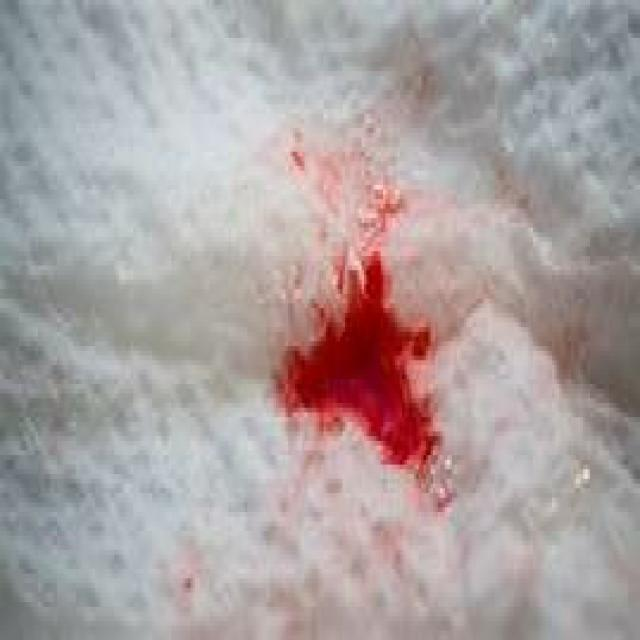wound: (243, 218, 488, 508)
